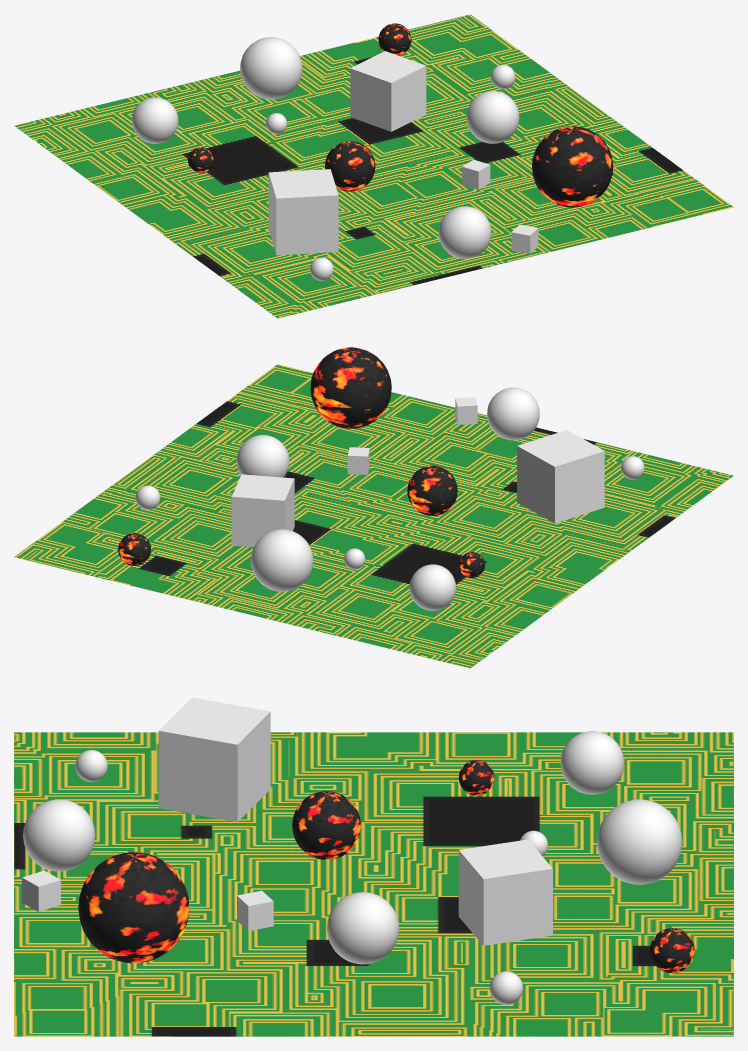
Rendered from DepthOfFieldExample.glb.
3 renders of one model, top to bottom at view 1: azimuth 30°, elevation 25°; view 2: azimuth 150°, elevation 25°; view 3: azimuth 270°, elevation 25°, orthographic. The views are drawn at different scales.
Parts seen in each view (by area): view 1: CircuitBoard, Cube, Sphere, Cube.002, Sphere.006, Sphere.001, Sphere.004, Sphere.003, Sphere.007, Sphere.010, Cube.003, Cube.001 (+1 smaller); view 2: CircuitBoard, Cube, Sphere, Cube.002, Sphere.006, Sphere.001, Sphere.003, Sphere.004, Sphere.007, Sphere.010, Cube.003, Cube.001 (+1 smaller); view 3: CircuitBoard, Cube, Sphere, Cube.002, Sphere.006, Sphere.004, Sphere.001, Sphere.003, Sphere.007, Sphere.010, Cube.001, Cube.003 (+3 smaller).
Part boxes in pixels (left/top/right/bottom): CircuitBoard: left=14, top=14, right=733, bottom=318; Cube: left=268, top=169, right=338, bottom=255; Sphere: left=532, top=126, right=613, bottom=207; Cube.002: left=350, top=51, right=426, bottom=131; Sphere.006: left=240, top=37, right=302, bottom=99; Sphere.001: left=438, top=206, right=491, bottom=259; Sphere.004: left=466, top=91, right=519, bottom=143; Sphere.003: left=325, top=141, right=375, bottom=191; Sphere.007: left=132, top=97, right=178, bottom=143; Sphere.010: left=378, top=23, right=411, bottom=55; Cube.003: left=462, top=159, right=490, bottom=189; Cube.001: left=511, top=224, right=538, bottom=253; CircuitBoard: left=14, top=364, right=733, bottom=668; Cube: left=517, top=430, right=604, bottom=523; Sphere: left=310, top=347, right=391, bottom=428; Cube.002: left=231, top=474, right=294, bottom=547; Sphere.006: left=251, top=529, right=313, bottom=591; Sphere.001: left=487, top=387, right=539, bottom=440; Sphere.003: left=407, top=465, right=457, bottom=515; Sphere.004: left=236, top=435, right=289, bottom=477; Sphere.007: left=409, top=564, right=455, bottom=610; Sphere.010: left=118, top=533, right=150, bottom=565; Cube.003: left=347, top=447, right=369, bottom=474; Cube.001: left=455, top=397, right=477, bottom=424; CircuitBoard: left=14, top=732, right=733, bottom=1036; Cube: left=158, top=697, right=270, bottom=822; Sphere: left=78, top=852, right=189, bottom=963; Cube.002: left=458, top=839, right=552, bottom=945; Sphere.006: left=597, top=799, right=682, bottom=884; Sphere.004: left=327, top=892, right=399, bottom=964; Sphere.001: left=23, top=799, right=95, bottom=871; Sphere.003: left=292, top=791, right=360, bottom=859; Sphere.007: left=560, top=731, right=624, bottom=794; Sphere.010: left=649, top=928, right=694, bottom=973; Cube.001: left=22, top=870, right=60, bottom=911; Cube.003: left=237, top=890, right=273, bottom=931.
Size of the model in its own units: 6.48 by 1.01 by 6.48.
3 materials, 2 textured.
